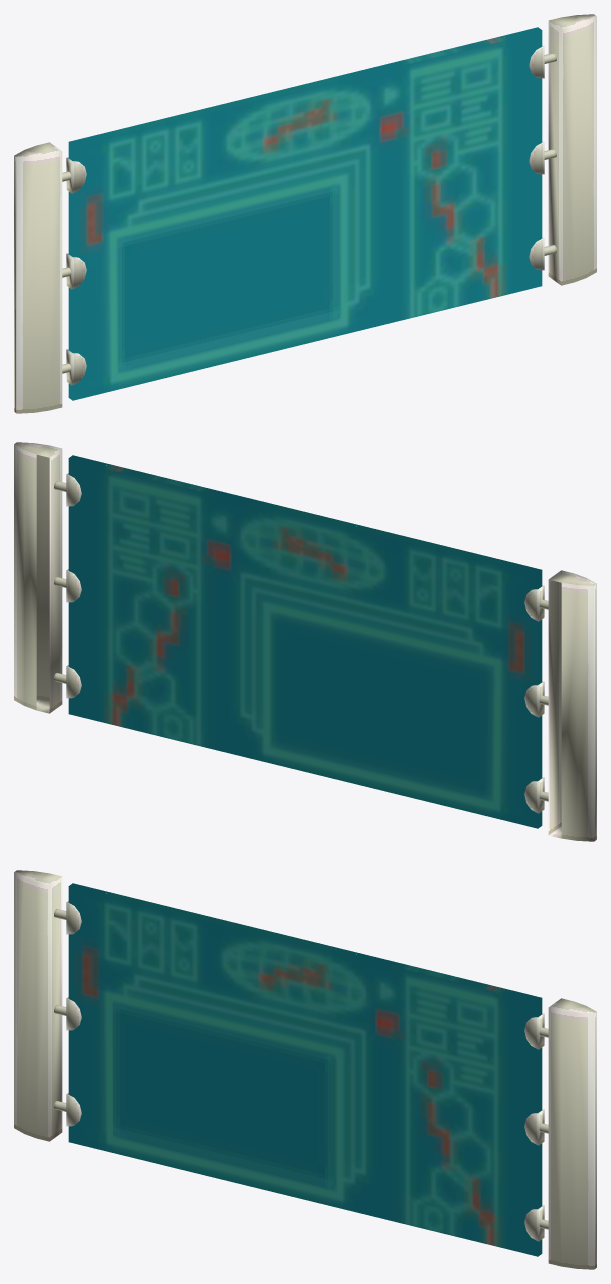
Rendered from int_sff_tv.dae.
The picture shows the model from 3 angles, top to bottom: view 1: azimuth 30°, elevation 25°; view 2: azimuth 150°, elevation 25°; view 3: azimuth 330°, elevation 25°; orthographic projection.
Visible parts, largest first — view 1: int_sff_tv; view 2: int_sff_tv; view 3: int_sff_tv.
Part boxes in pixels (box(x1,y1,x2,y2)): int_sff_tv: box(14, 14, 596, 413); int_sff_tv: box(14, 442, 596, 841); int_sff_tv: box(14, 870, 596, 1269).
Bounding box in the file's own units: 60.55 × 25.52 × 2.3.
Materials: 3 (3 with a texture image).
